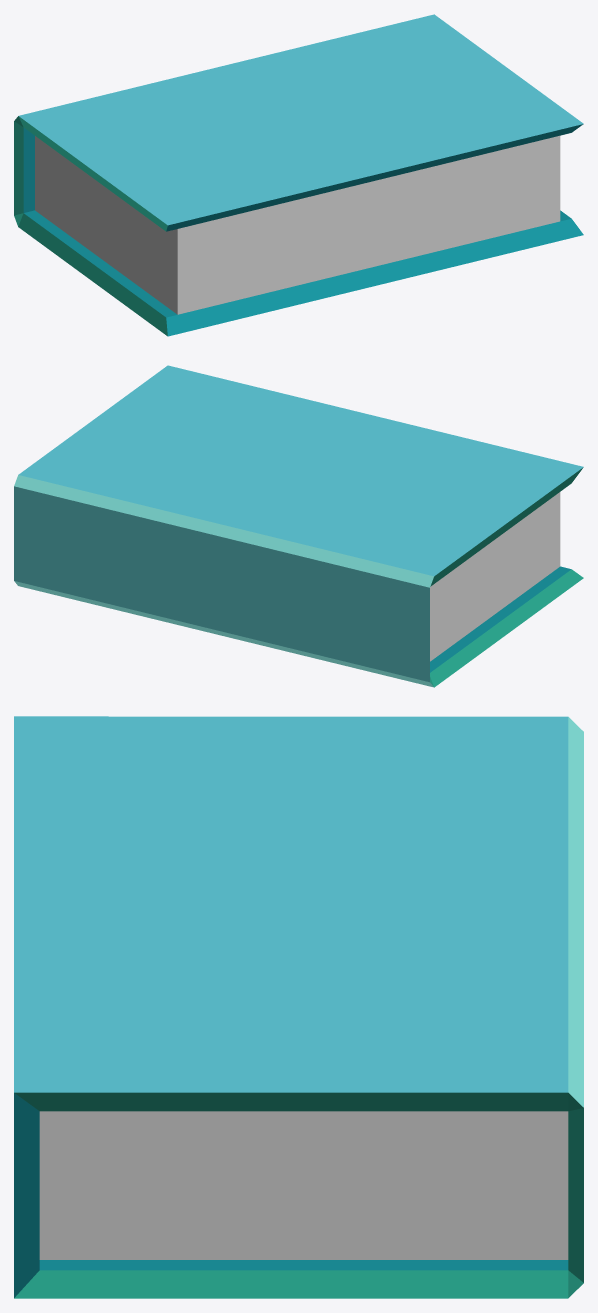
Rendered from book_2.fbx.
The picture shows the model from 3 angles, top to bottom: view 1: azimuth 30°, elevation 25°; view 2: azimuth 150°, elevation 25°; view 3: azimuth 270°, elevation 25°; orthographic projection. The views are drawn at different scales.
Visible parts, largest first — view 1: book_1.003; view 2: book_1.003; view 3: book_1.003.
Boxes of the visible parts, <box> form: book_1.003: <box>14,14,583,336</box>; book_1.003: <box>14,365,583,687</box>; book_1.003: <box>14,716,583,1298</box>.
Bounding box in the file's own units: 272 × 69.37 × 174.
